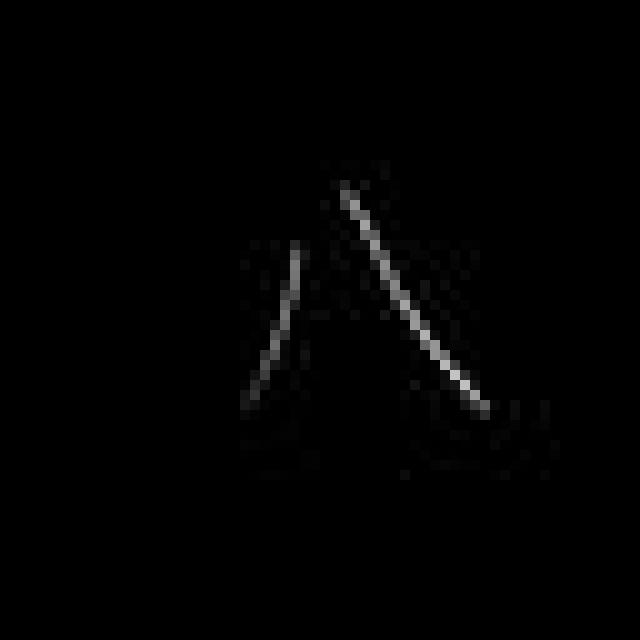8 -eight-: (241, 168, 498, 430)
